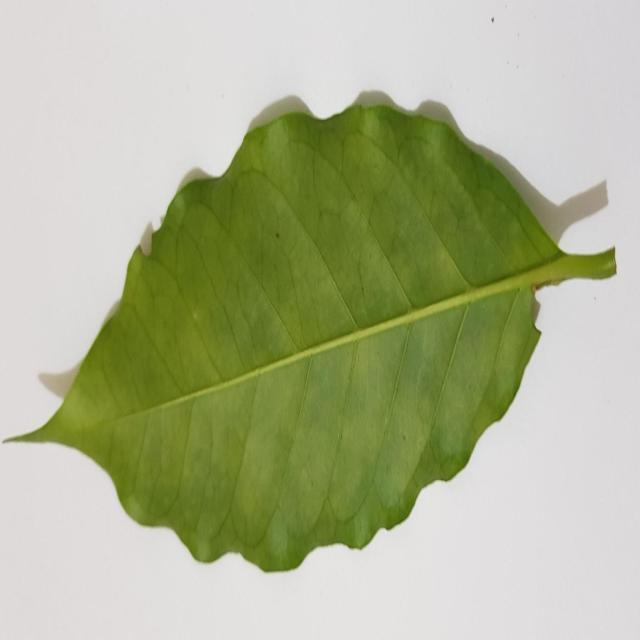nodisease: (5, 94, 616, 571)
